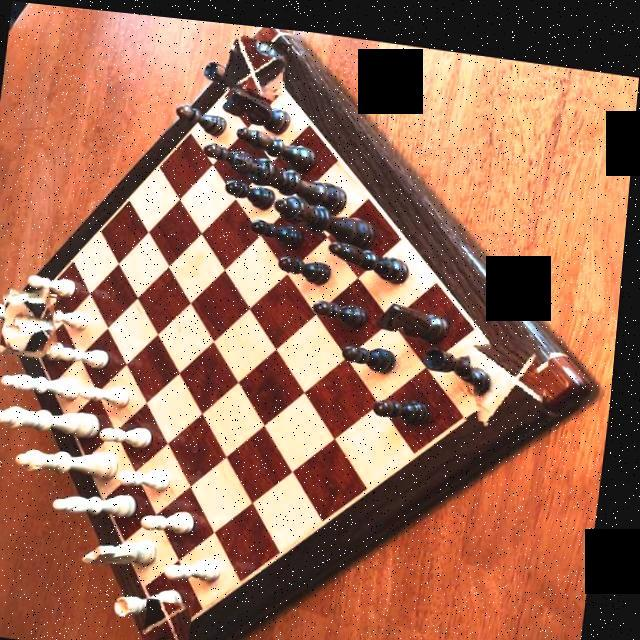chess-table-corners: (469, 318, 556, 417), (222, 30, 290, 92), (5, 284, 64, 352), (150, 592, 203, 640)
